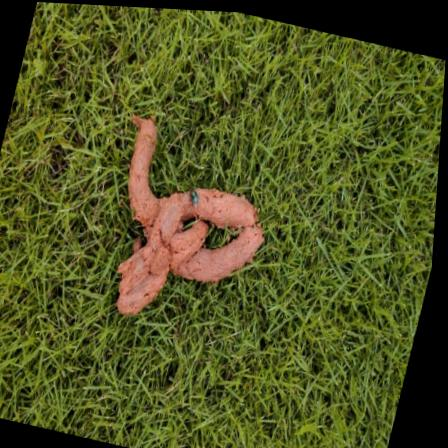dog-poop: (83, 110, 288, 338)
